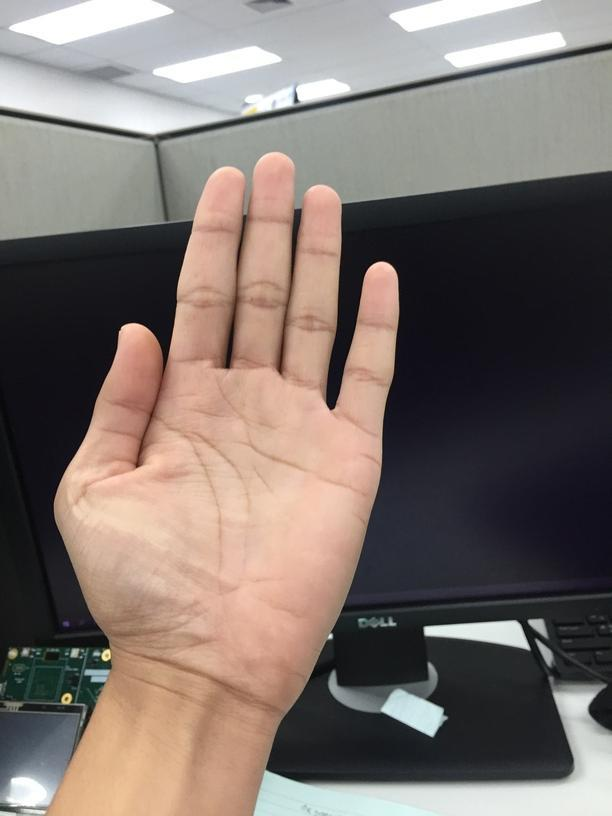hand: (49, 149, 400, 686)
